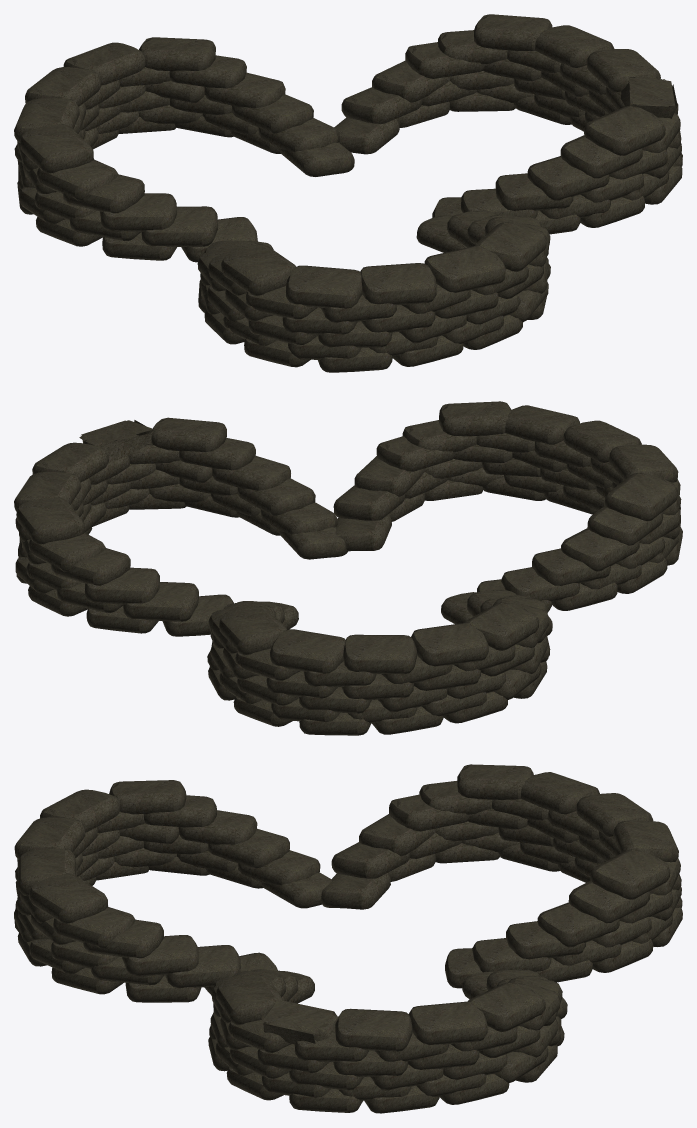
Rendered from model_mercenary_base_sacos.fbx.
The picture shows the model from 3 angles, top to bottom: view 1: azimuth 30°, elevation 25°; view 2: azimuth 150°, elevation 25°; view 3: azimuth 270°, elevation 25°; orthographic projection. The views are drawn at different scales.
Parts seen in each view (by area): view 1: obj68; view 2: obj68; view 3: obj68.
Part boxes in pixels (left/top/right/bottom): obj68: left=14, top=14, right=682, bottom=372; obj68: left=14, top=401, right=682, bottom=735; obj68: left=14, top=764, right=682, bottom=1113.
Size of the model in its own units: 582 by 81.65 by 598.
